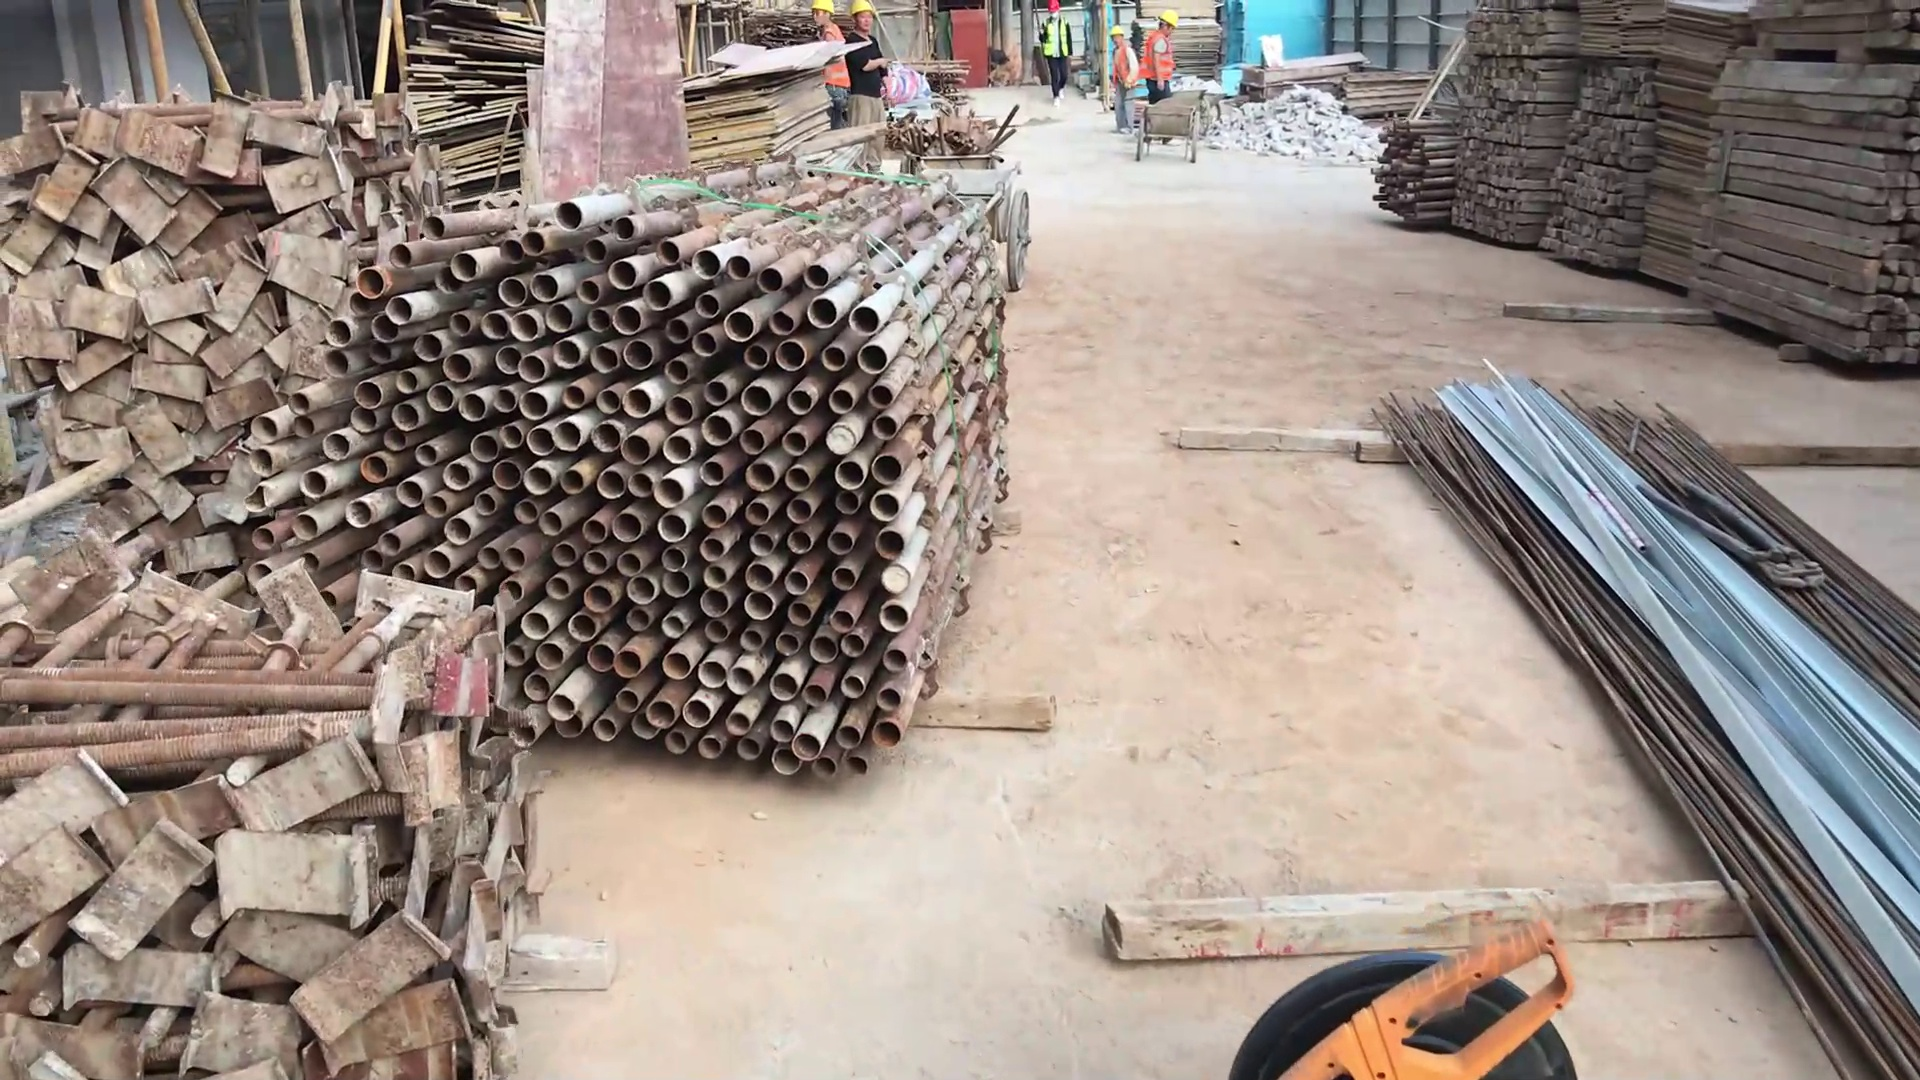board: (1679, 30, 1920, 367), (1635, 1, 1754, 306), (669, 31, 850, 190), (1532, 66, 1658, 284), (1446, 57, 1578, 259), (1575, 1, 1676, 74)
cutter: (1222, 914, 1607, 1080)
handcart: (946, 154, 1035, 294), (1129, 83, 1211, 165)
helmet: (1157, 6, 1182, 34), (846, 1, 877, 22), (813, 1, 838, 19), (1106, 23, 1125, 39), (1043, 1, 1062, 16)
person: (843, 1, 895, 179), (809, 1, 854, 131), (1102, 21, 1146, 139), (1138, 8, 1187, 109), (1033, 1, 1076, 109)
scaffold: (248, 171, 1007, 755)
vest: (818, 22, 852, 90), (1139, 31, 1180, 83), (1040, 14, 1074, 63), (1109, 44, 1138, 90)
wood: (1460, 1, 1582, 60)
